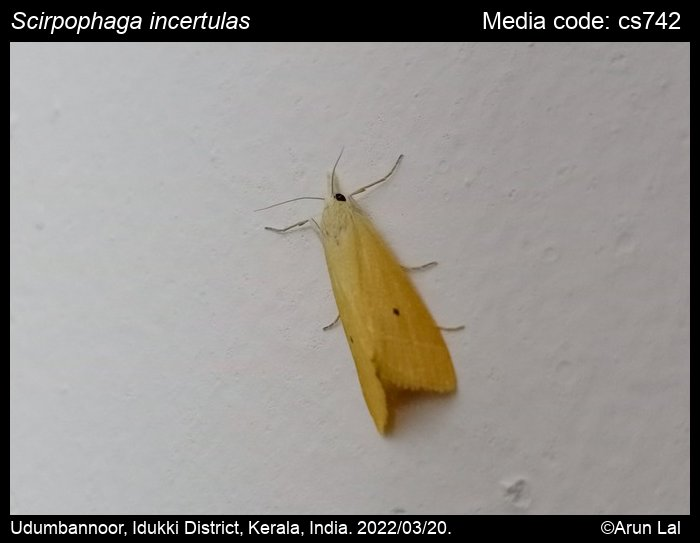Crambidae: (252, 146, 472, 438)
